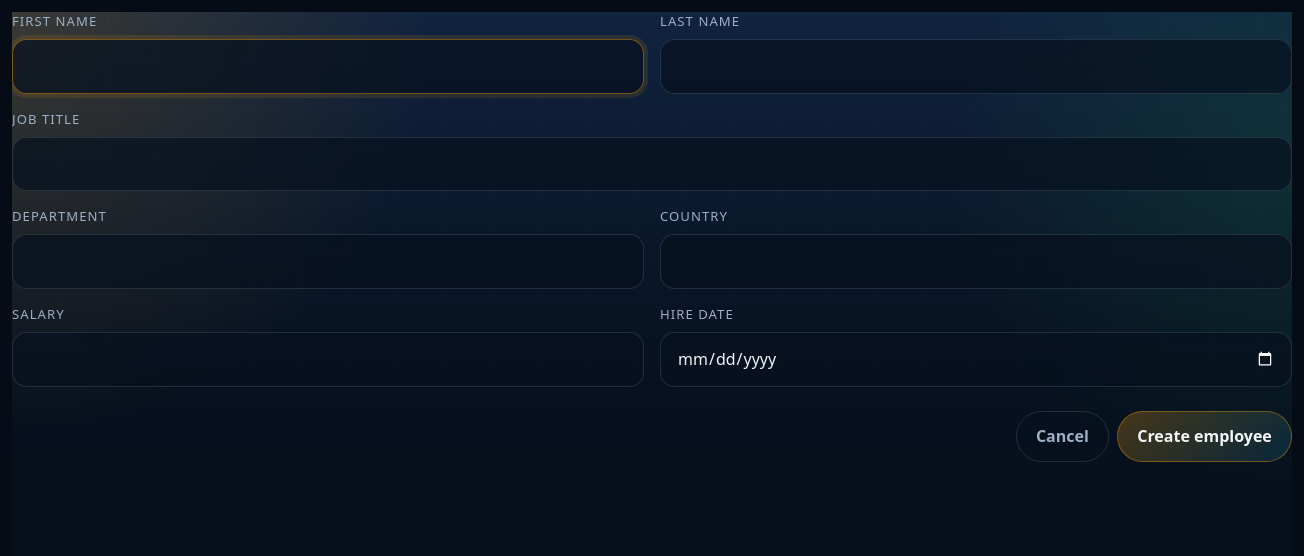
Test: EmployeeForm › shows a submission error message
Type "Ada" into the field labelled "First name" at (328, 66), box [12, 39, 644, 94]
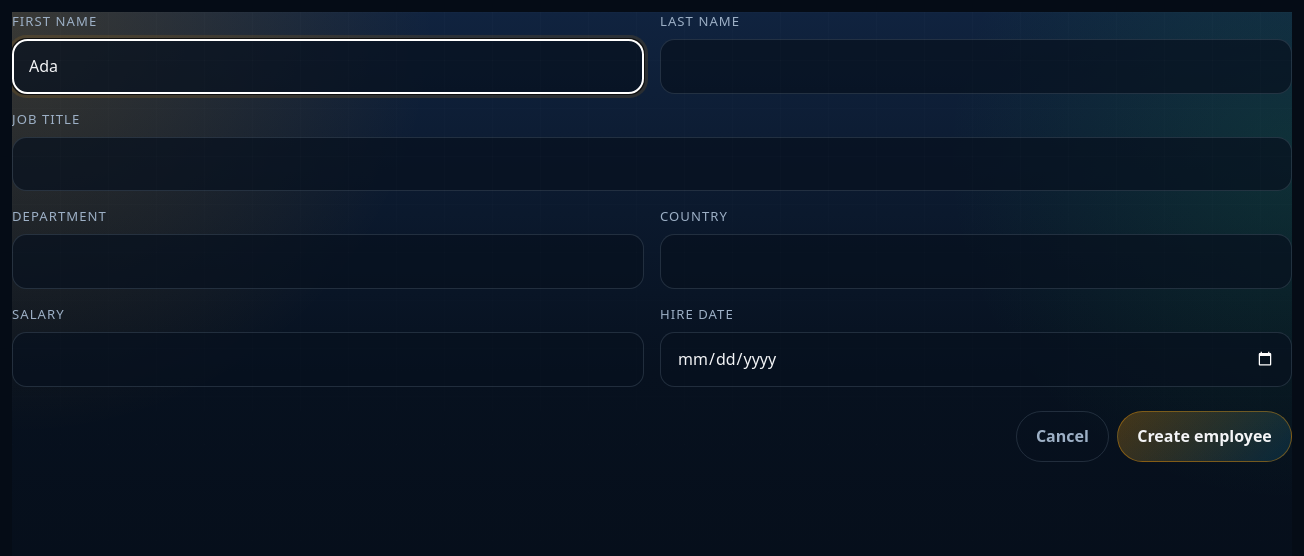
Type "Lovelace" into the field labelled "Last name" at (976, 66), box [660, 39, 1292, 94]
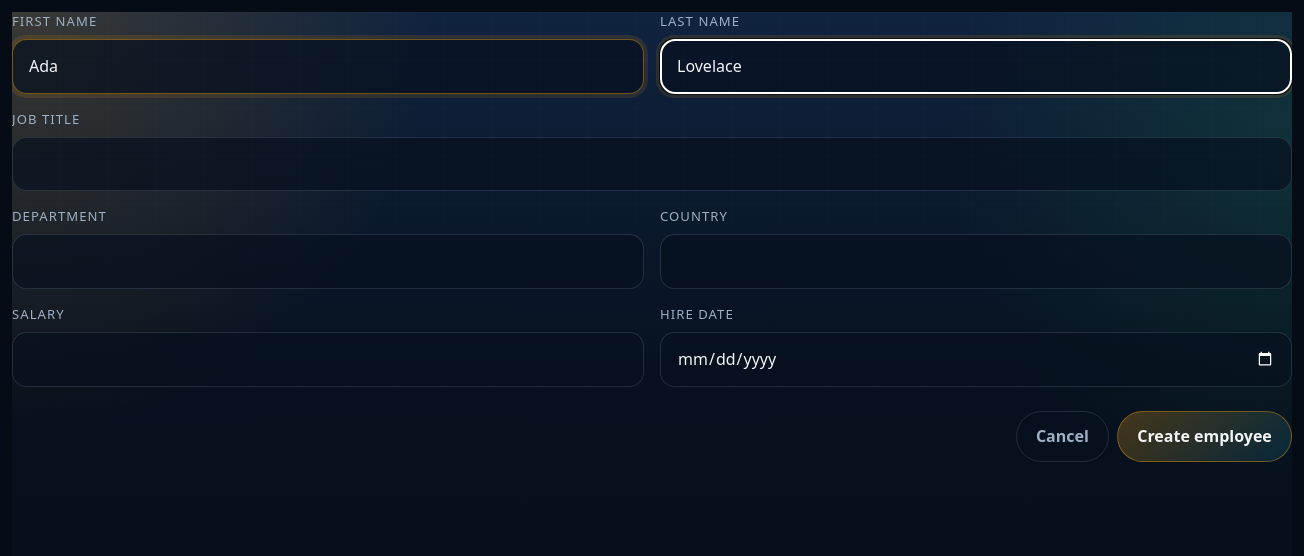
Type "Principal Engineer" into the field labelled "Job title" at (652, 164), box [12, 136, 1292, 191]
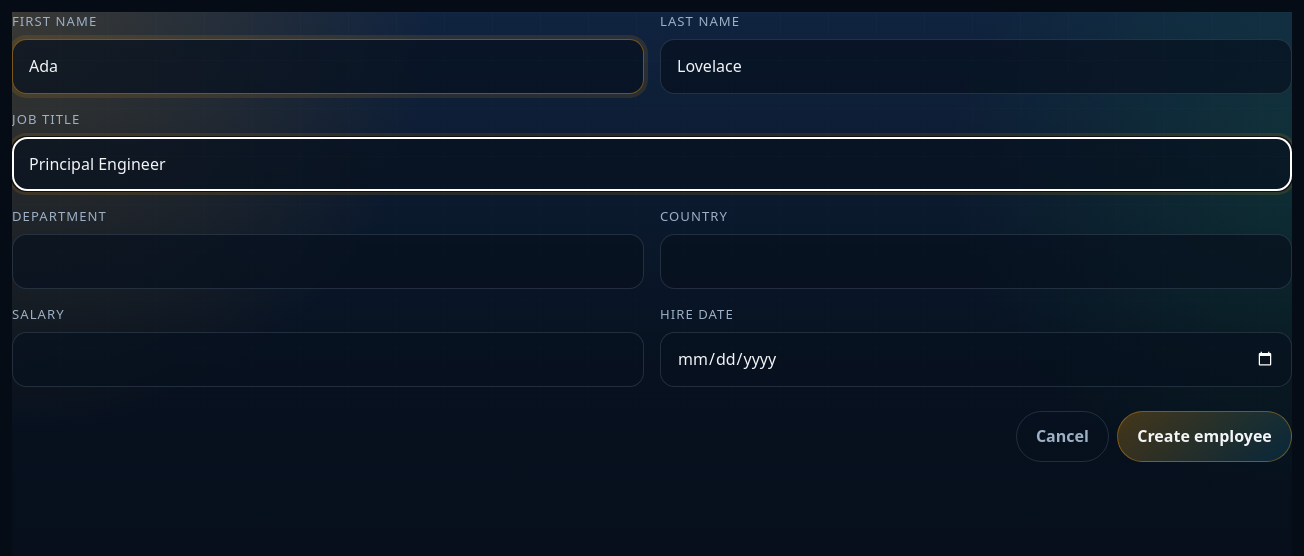
Type "United Kingdom" into the field labelled "Country" at (976, 262), box [660, 234, 1292, 289]
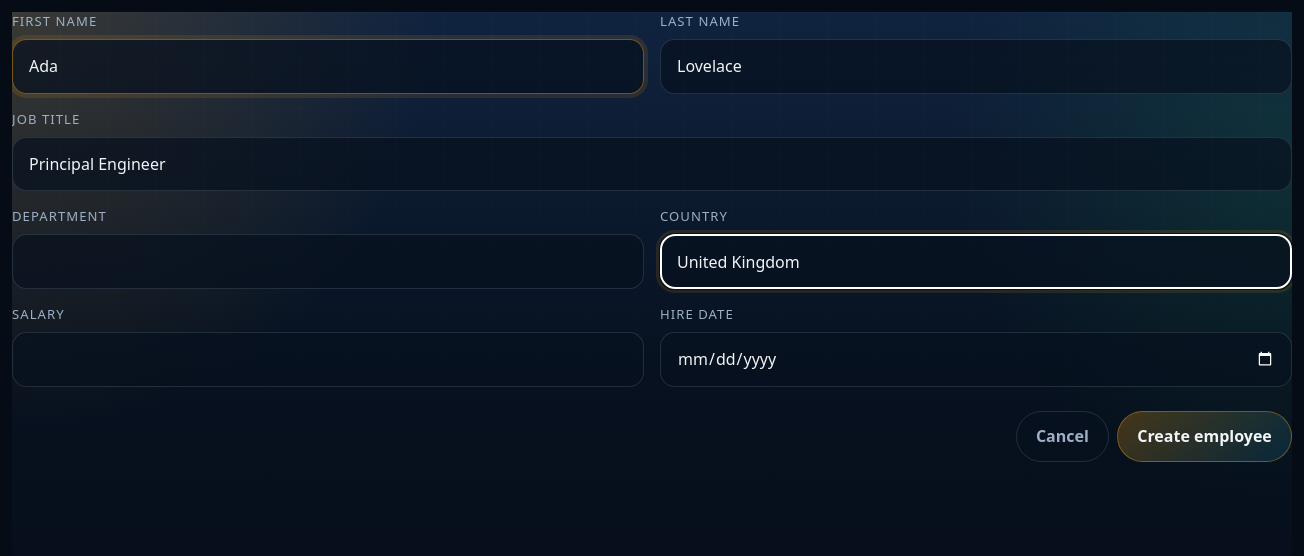
Type "145000.00" into the field labelled "Salary" at (328, 359), box [12, 332, 644, 387]
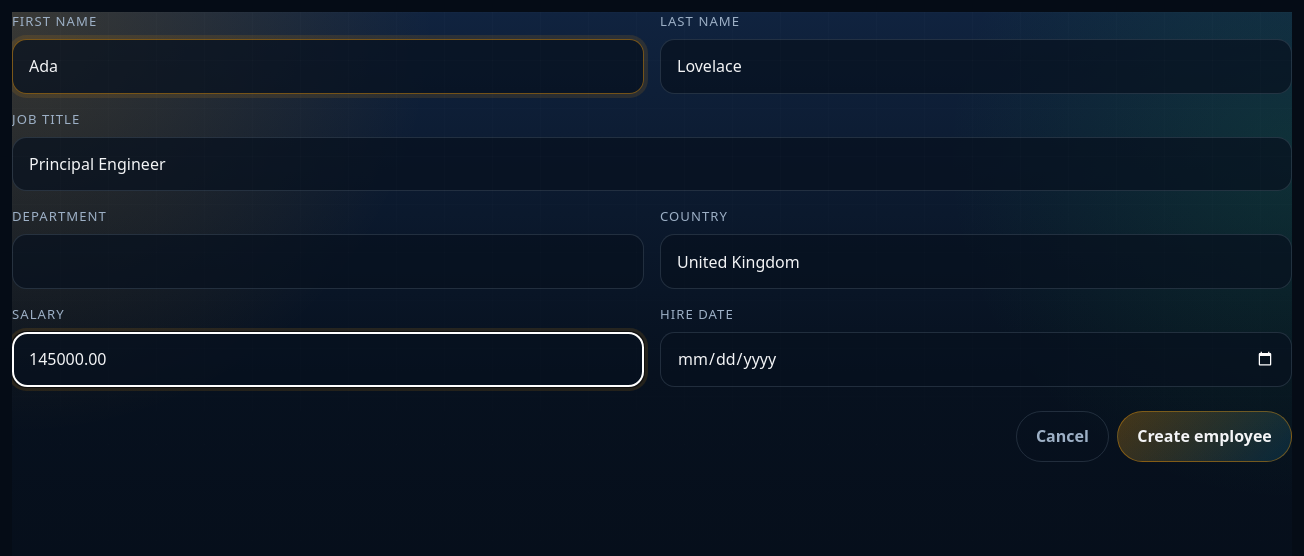
Click the button "Create employee" at (1204, 436), box [1117, 411, 1292, 462]
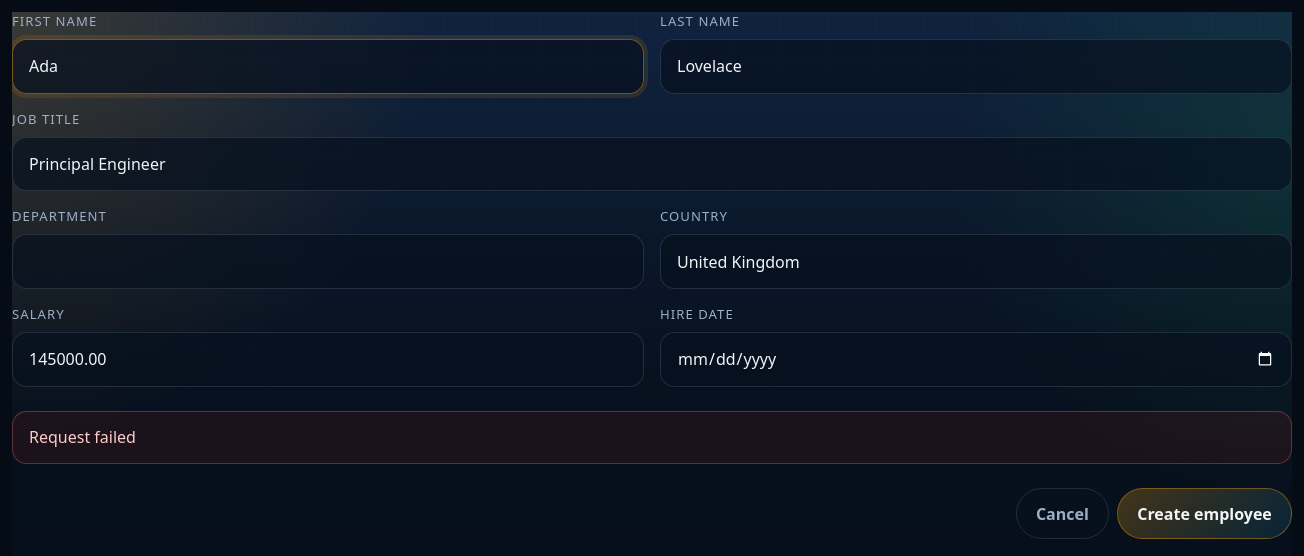
Result: the text "Request failed" is shown at [12, 411, 1292, 464]
